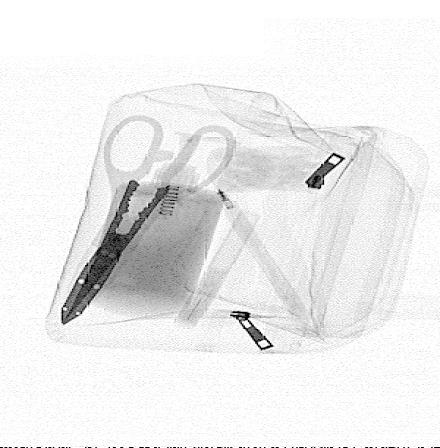Scissors: (53, 112, 242, 327)
